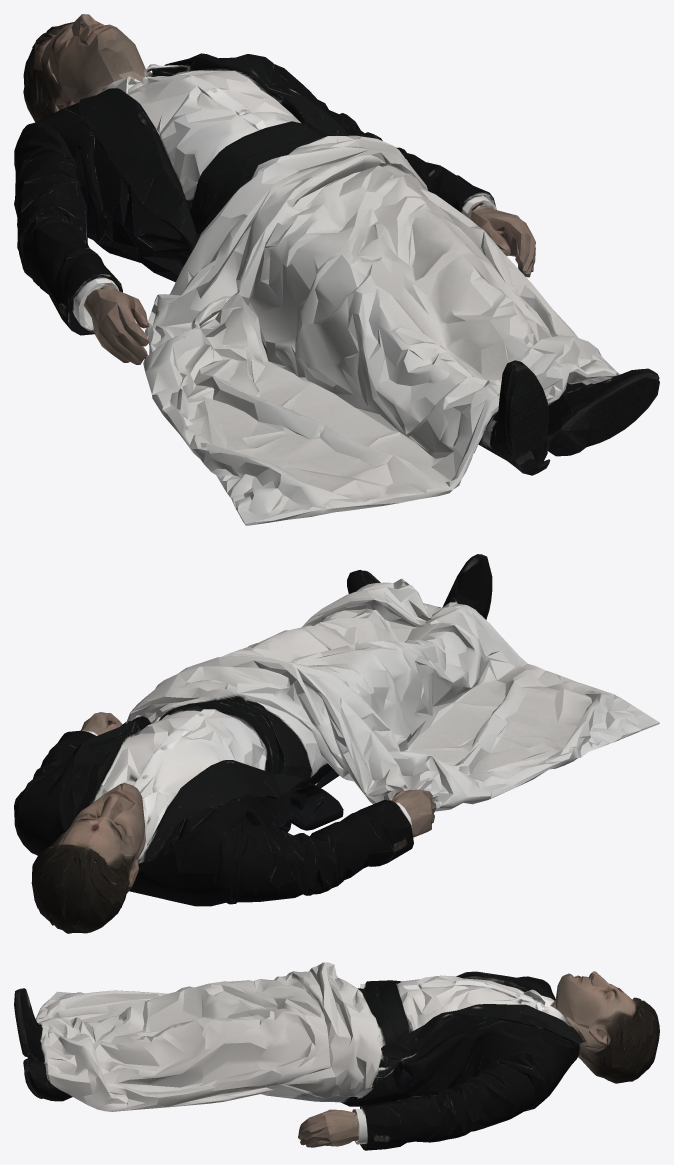
Rendered from murder_victim.glb.
3 views of the same model, one above another, from view 1: azimuth 30°, elevation 25°; view 2: azimuth 150°, elevation 25°; view 3: azimuth 270°, elevation 25° (orthographic). The views are drawn at different scales.
Visible parts, largest first — view 1: MurderVictimMesh; view 2: MurderVictimMesh; view 3: MurderVictimMesh.
Boxes of the visible parts, box(x1,y1,x2,y2) form: MurderVictimMesh: box(14, 14, 659, 525); MurderVictimMesh: box(14, 554, 659, 933); MurderVictimMesh: box(14, 962, 659, 1150).
Size of the model in its own units: 1.1 by 0.3618 by 1.9.
1 material, 1 textured.
